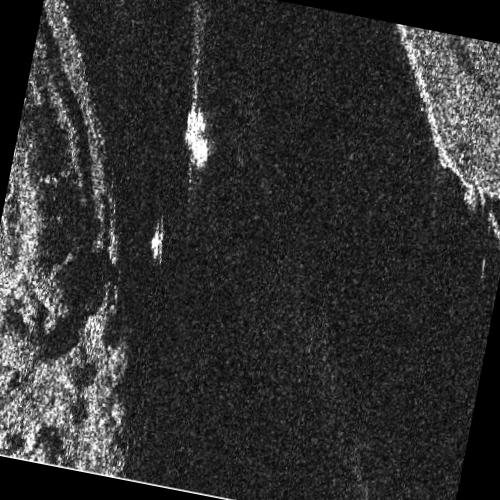ship: (185, 106, 209, 169), (149, 225, 162, 261)
